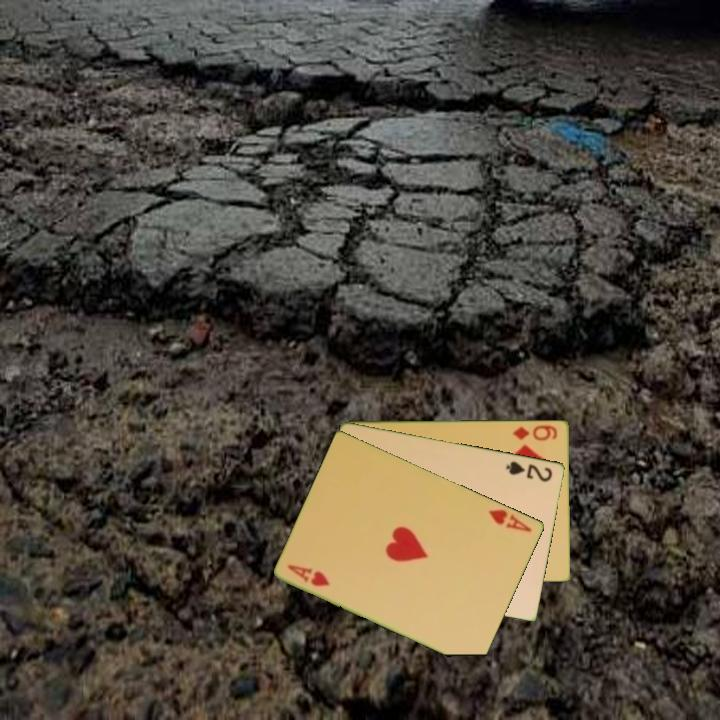2s: (502, 457, 556, 485)
6d: (509, 421, 560, 443)
Ah: (485, 505, 535, 535), (284, 561, 333, 589)
